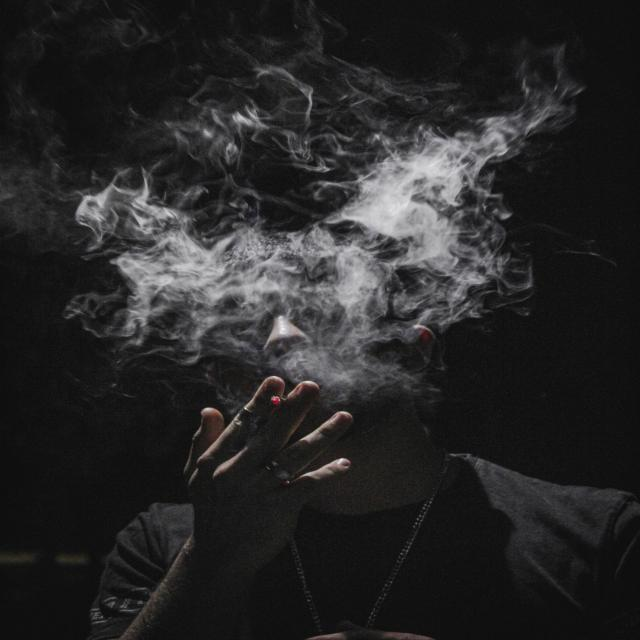Smoke: (93, 114, 508, 372)
